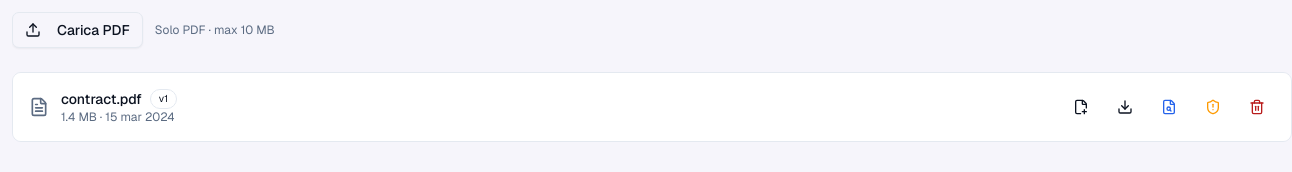
DocumentsTab › shows analyzing spinner while analyze mutation is pending
The width and height of the screenshot is (1292, 172).
Click the button titled "Estrai campi".
click(1169, 107)  # box x1=1151 y1=91 x2=1187 y2=123
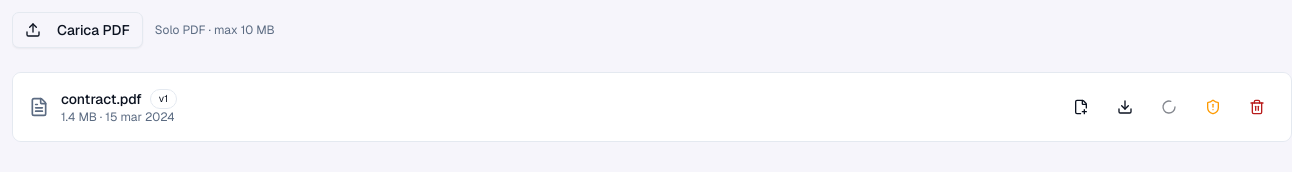
Expected: the button titled "Estrai campi" is disabled, x1=1151 y1=91 x2=1187 y2=123
